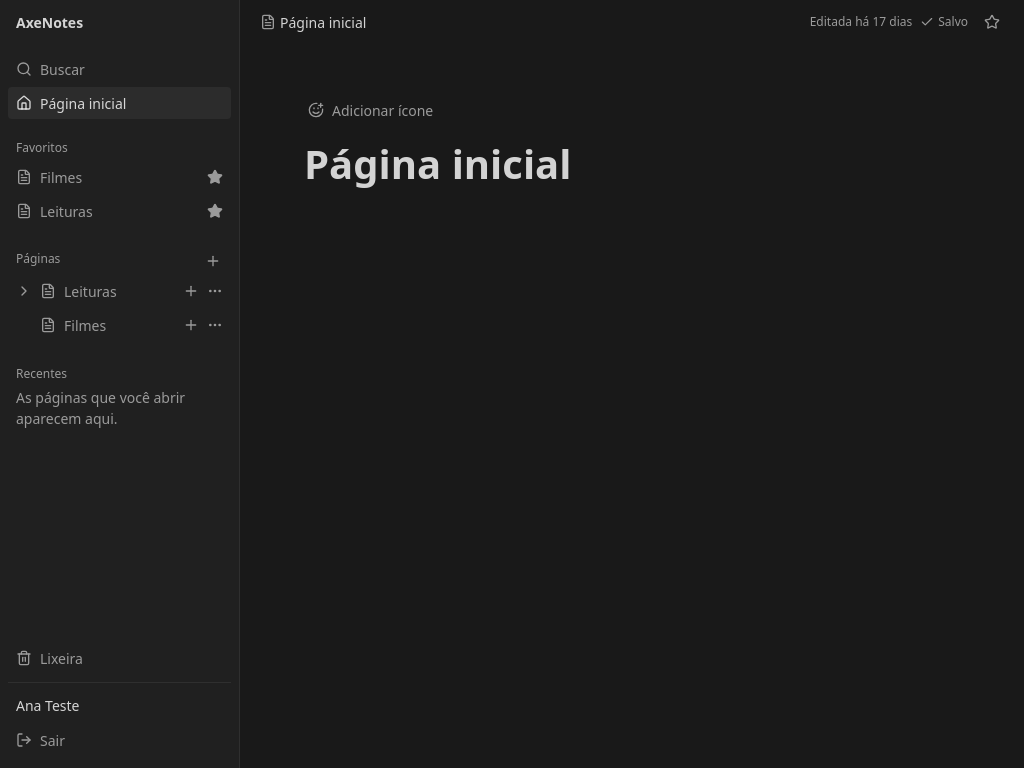
Test: mover para a lixeira pela árvore › hides favorites of the trashed pages without touching the favorite rows
Click the button named "Mais ações de Filmes".
click(215, 325)  # box [203,311,227,339]
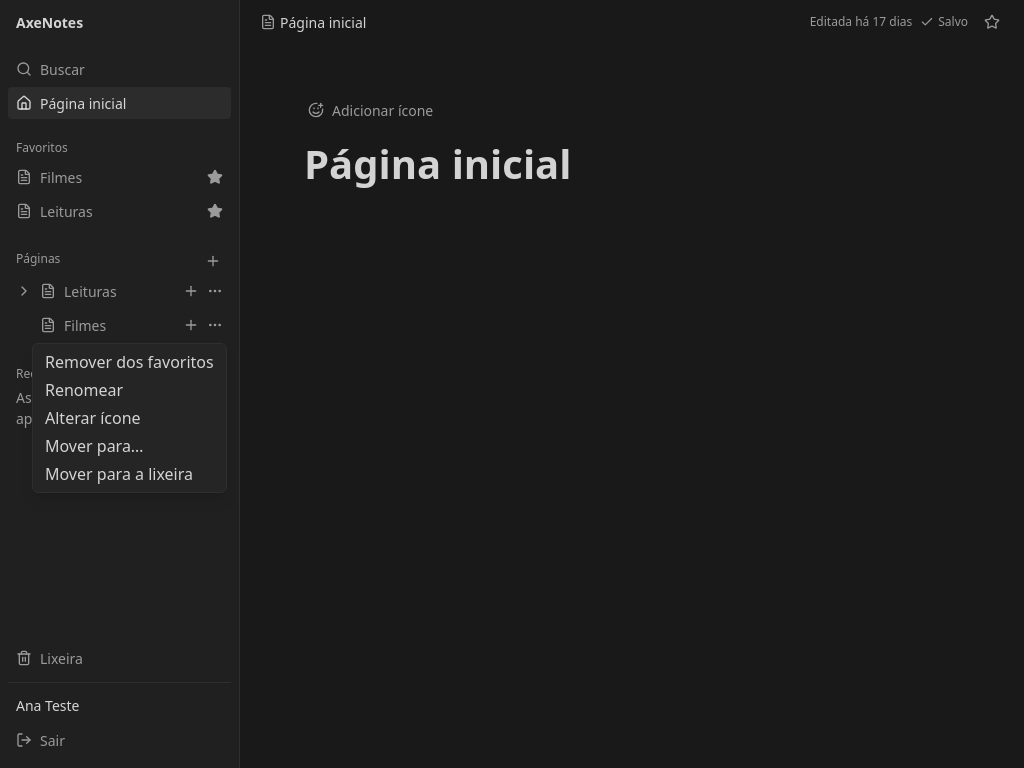
Click the menu item "Mover para a lixeira".
click(119, 474)  # box [45,463,193,485]
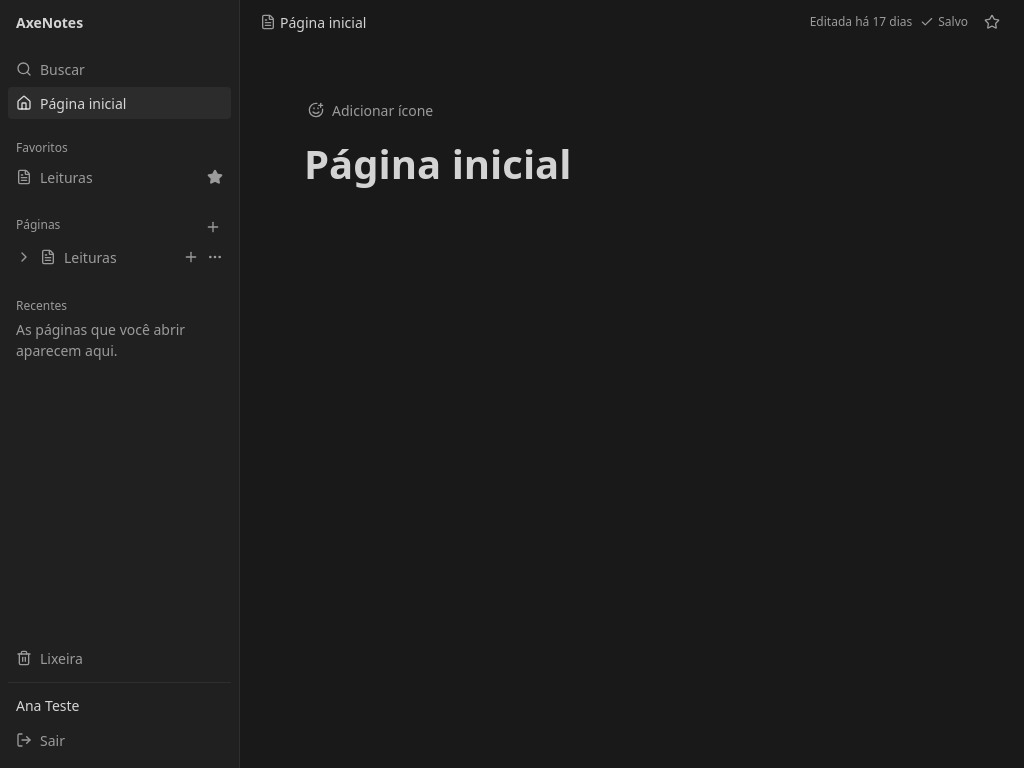
Expected: the links read "Leituras", in this order, [16,168,93,186]
